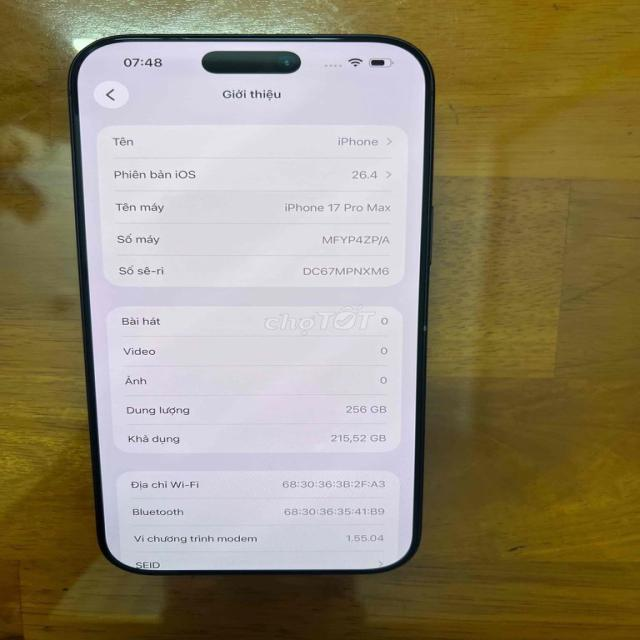gen_17: (58, 30, 443, 591)
